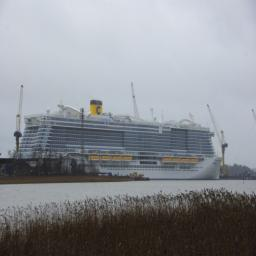cruises: (16, 99, 225, 185)
